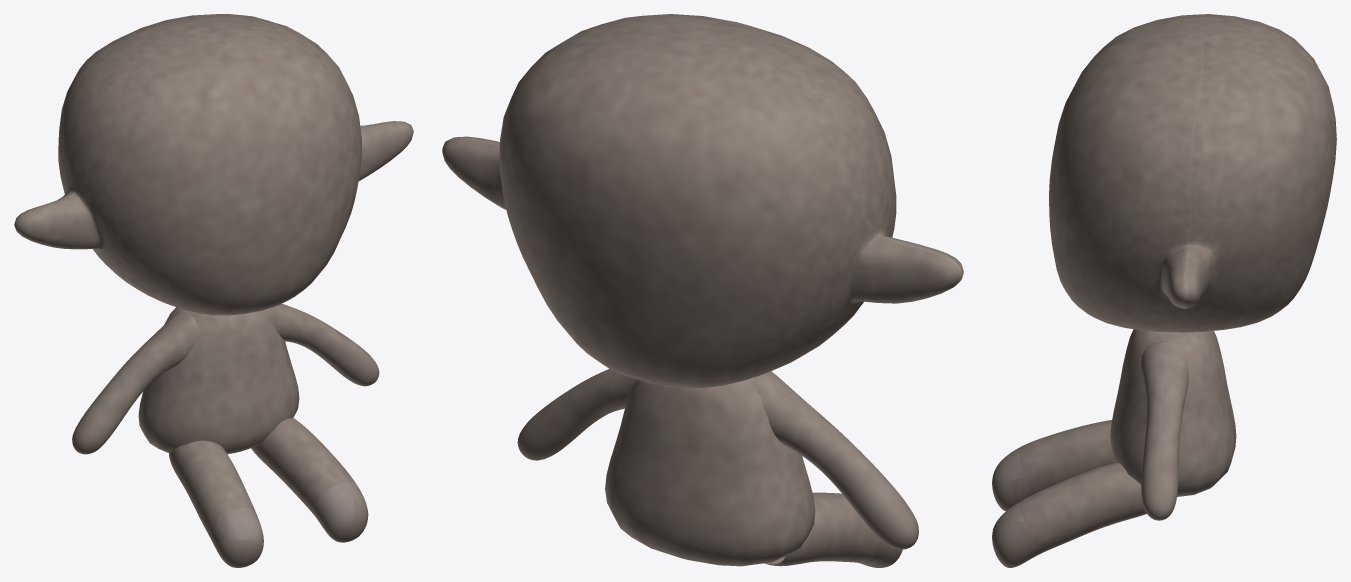
The model's file is Tan.glb.
3 views of the same model, side by side, from view 1: azimuth 30°, elevation 25°; view 2: azimuth 150°, elevation 25°; view 3: azimuth 270°, elevation 25° (orthographic). The views are drawn at different scales.
Visible parts, largest first — view 1: Tan; view 2: Tan; view 3: Tan.
Part boxes in pixels (x1,y1,x2,y2): Tan: (14, 14, 413, 567); Tan: (442, 14, 963, 567); Tan: (992, 14, 1336, 567).
Bounding box in the file's own units: 1.34 × 1.47 × 0.9208.
1 material, 1 textured.
